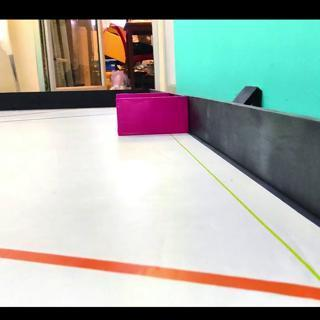xparking: (118, 100, 186, 134)
